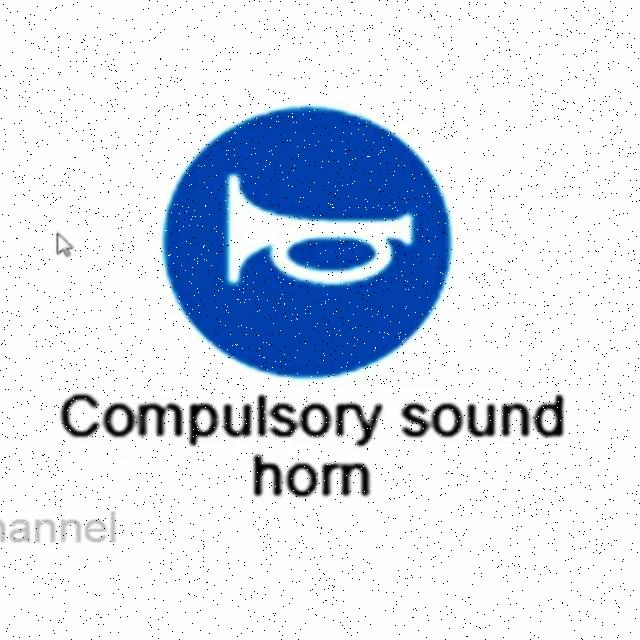compulsory_soundhorn: (166, 108, 452, 379)
